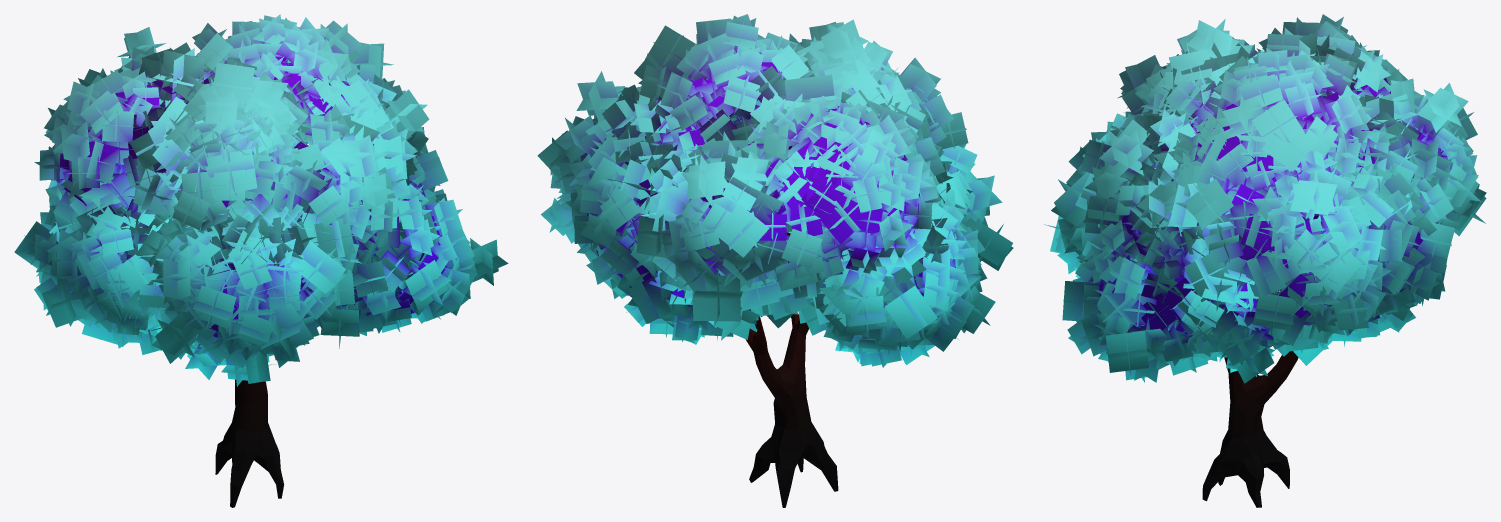
The model's file is SM_Env_Tree_Fruit_01.FBX.
The picture shows the model from 3 angles, left to right: view 1: azimuth 30°, elevation 25°; view 2: azimuth 150°, elevation 25°; view 3: azimuth 270°, elevation 25°; orthographic projection. The views are drawn at different scales.
Parts seen in each view (by area): view 1: SM_Env_Tree_Fruit_01; view 2: SM_Env_Tree_Fruit_01; view 3: SM_Env_Tree_Fruit_01.
Boxes of the visible parts, bbox=[...] form: SM_Env_Tree_Fruit_01: bbox=[14, 14, 508, 507]; SM_Env_Tree_Fruit_01: bbox=[537, 14, 1013, 507]; SM_Env_Tree_Fruit_01: bbox=[1044, 14, 1486, 507].
Bounding box in the file's own units: 524 × 499 × 579.
